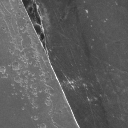corrosion: (10, 62, 22, 71), (13, 76, 24, 84), (1, 66, 8, 75), (66, 80, 73, 85), (84, 9, 89, 14), (33, 86, 38, 90)
